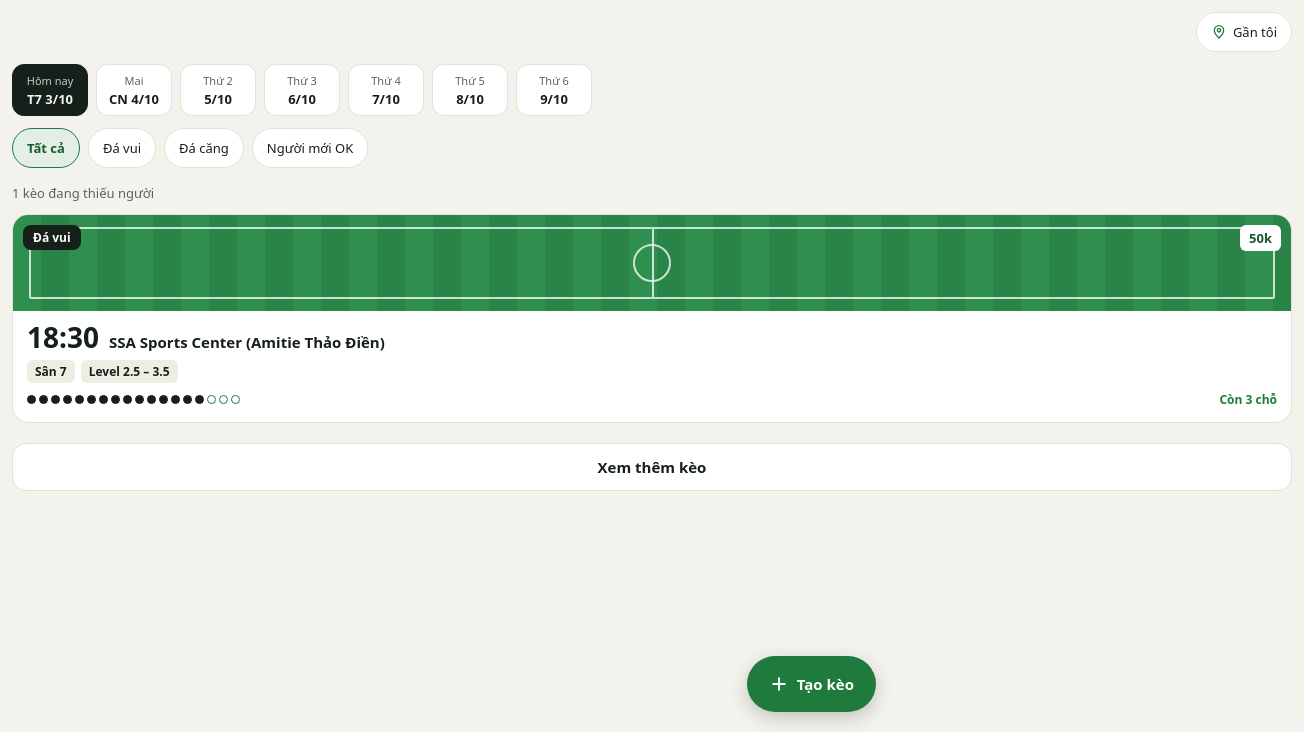
Scenario: MatchList › loads more matches with the cursor
Click the button "Xem thêm kèo" at (652, 467), box [12,443,1292,491]
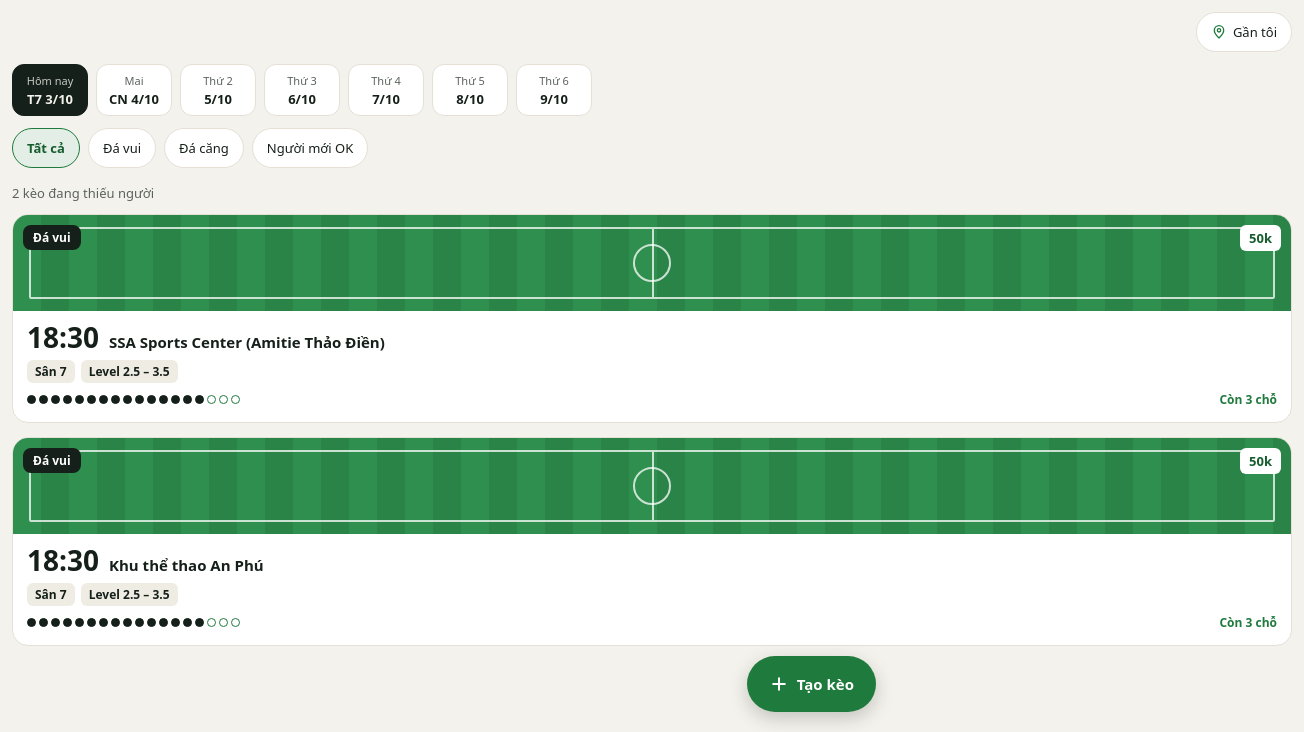
Expected: the text "Khu thể thao An Phú" is shown, [109,555,264,575]
Expected: the button "Xem thêm kèo" is gone
